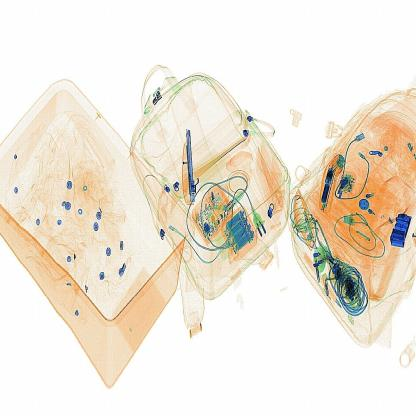pliers: (180, 127, 202, 210)
